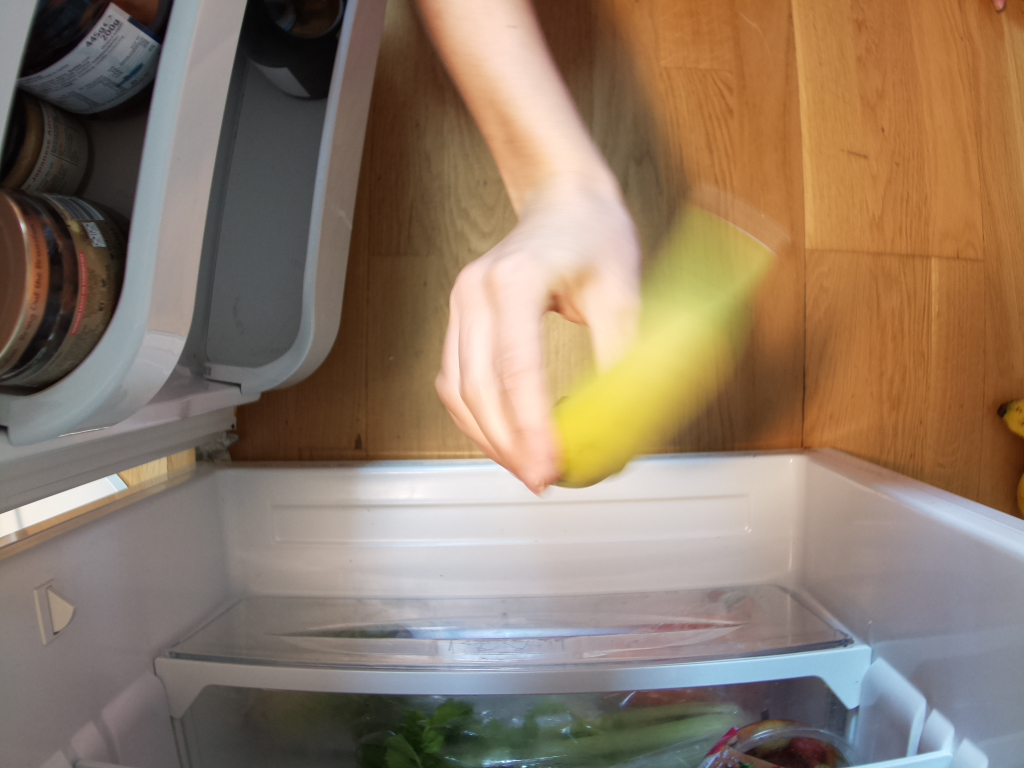banana-unripe: (552, 194, 796, 489)
